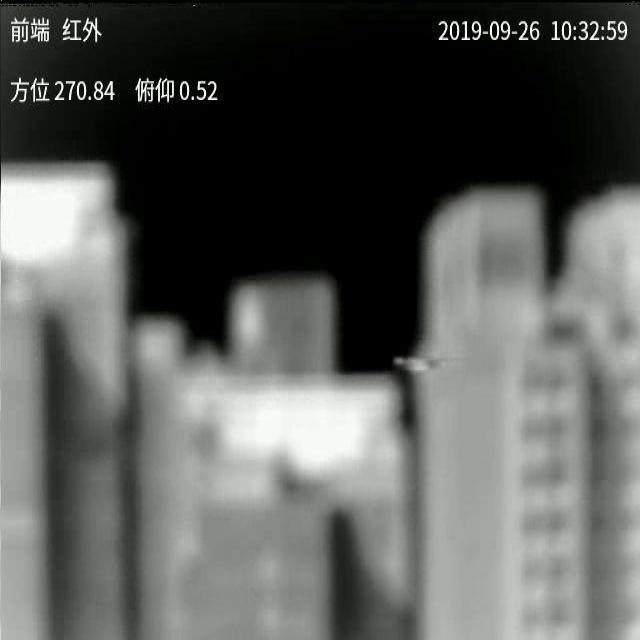drone: (395, 358, 445, 372)
